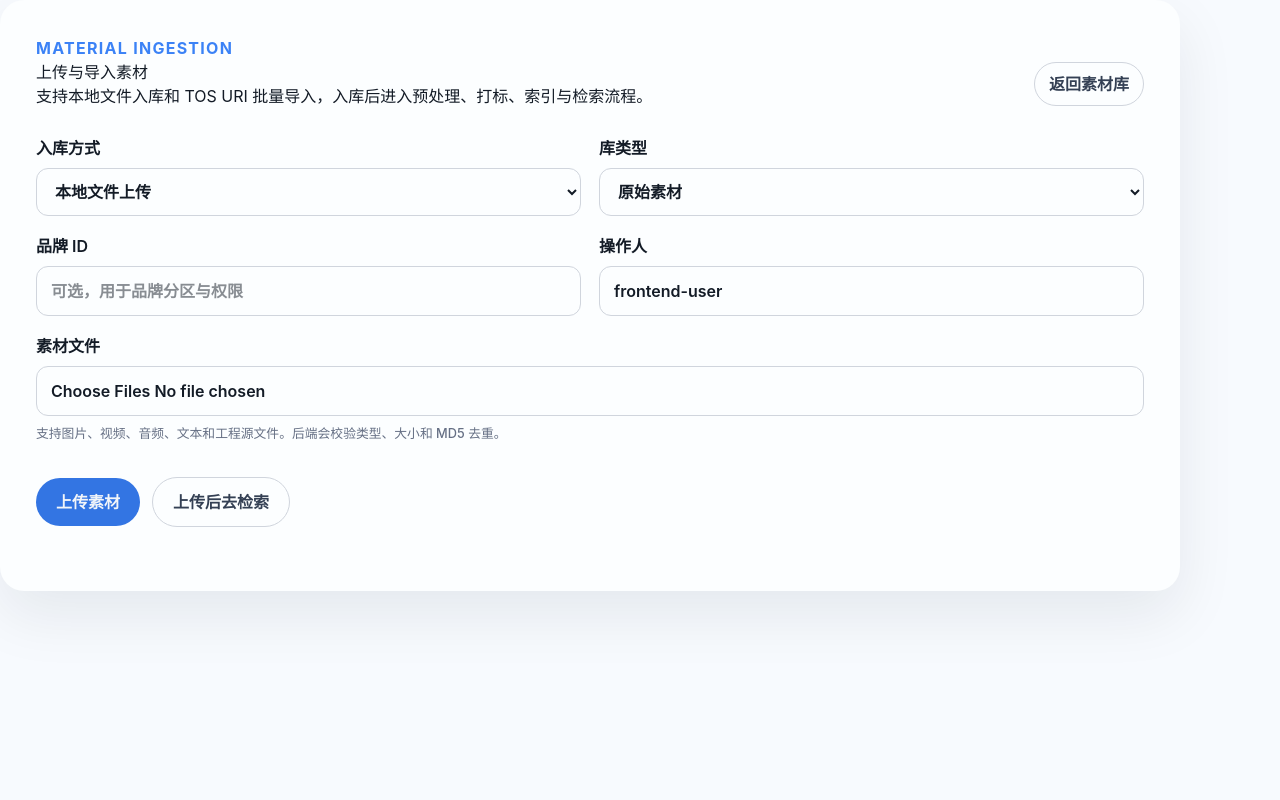
Scenario: MaterialUploadPage › 提交 TOS 批量导入表单并展示创建结果
Select "TOS URI 批量导入" in the dropdown labelled "入库方式": x=308, y=192 [36,168,581,216]
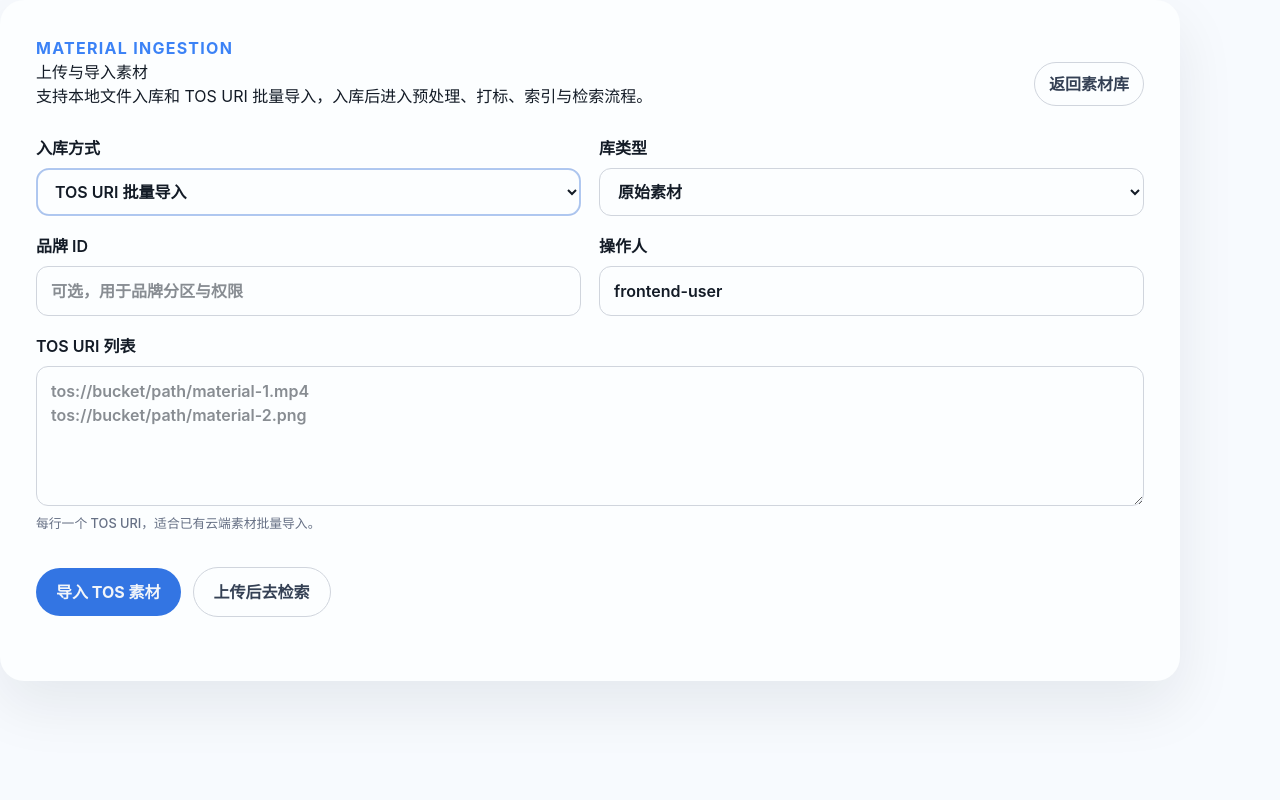
In the text box with placeholder "tos://bucket/path/material-1.mp4": x=590, y=436 [36,366,1144,506], type "tos://bucket/summer.mp4"
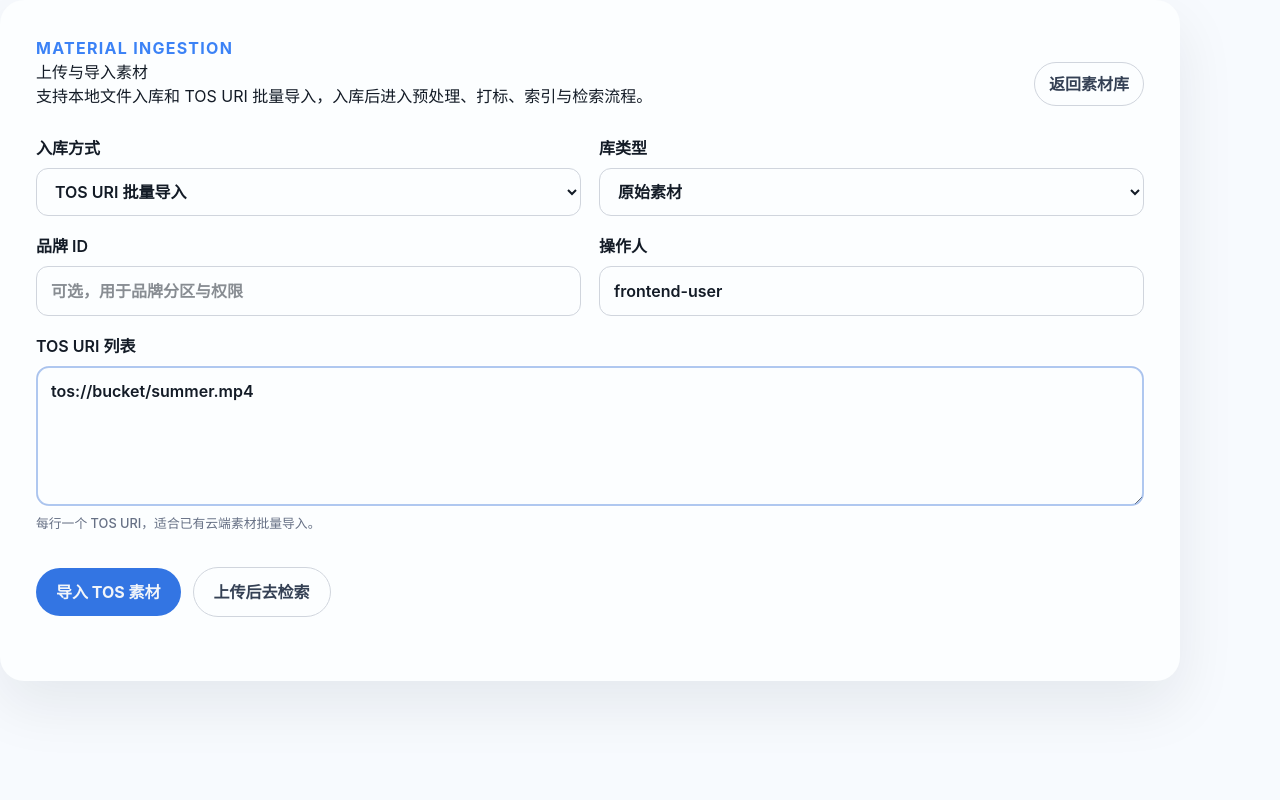
Click the button "导入 TOS 素材": x=108, y=592 [36,568,181,616]
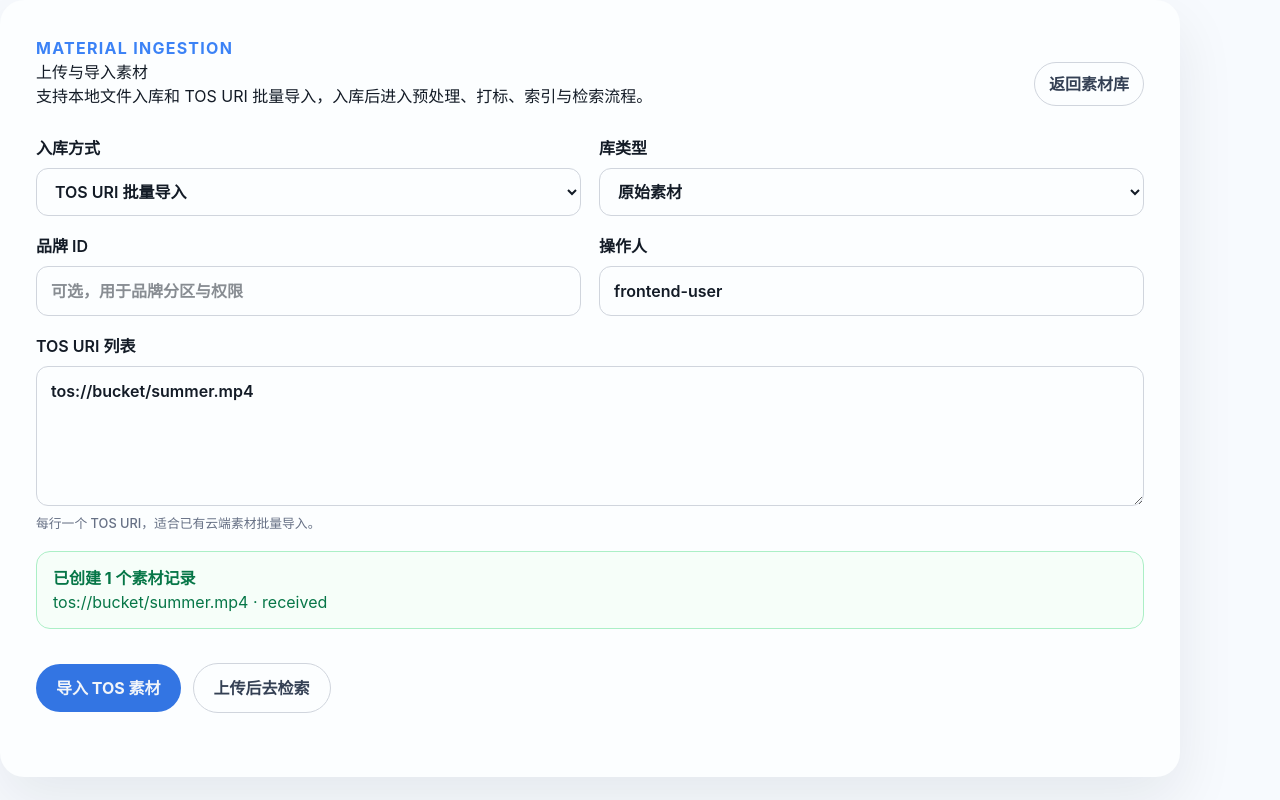
expect the text "已创建 1 个素材记录" is shown: met, box [53,568,196,588]
